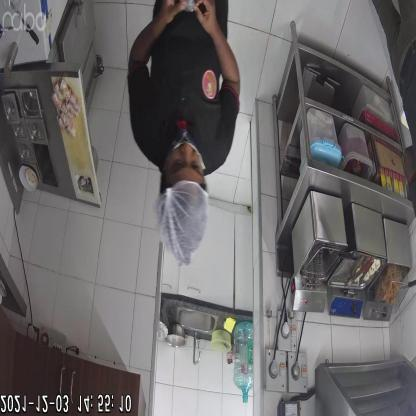no_apron: (149, 0, 225, 158)
